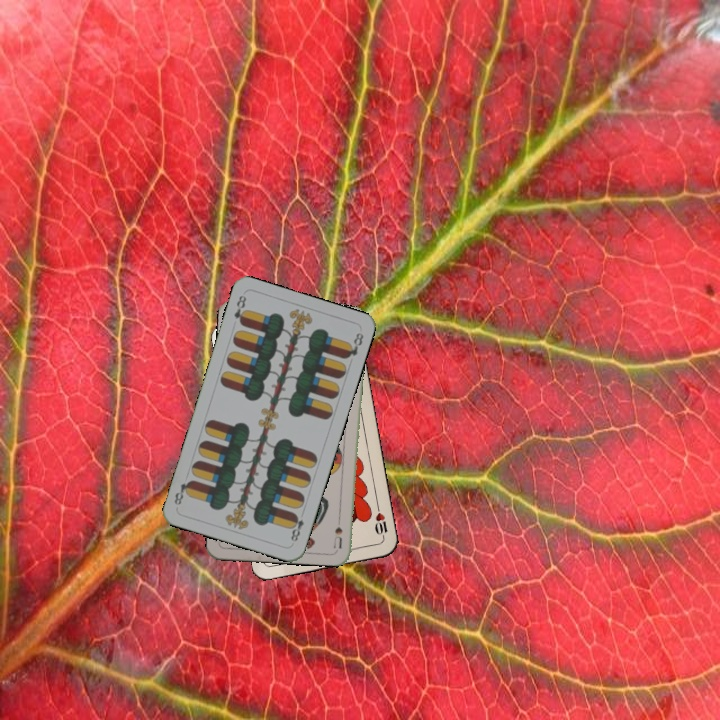E8: (287, 507, 307, 544), (230, 291, 249, 327)
H10: (371, 502, 390, 542)
SU: (330, 509, 345, 550)
